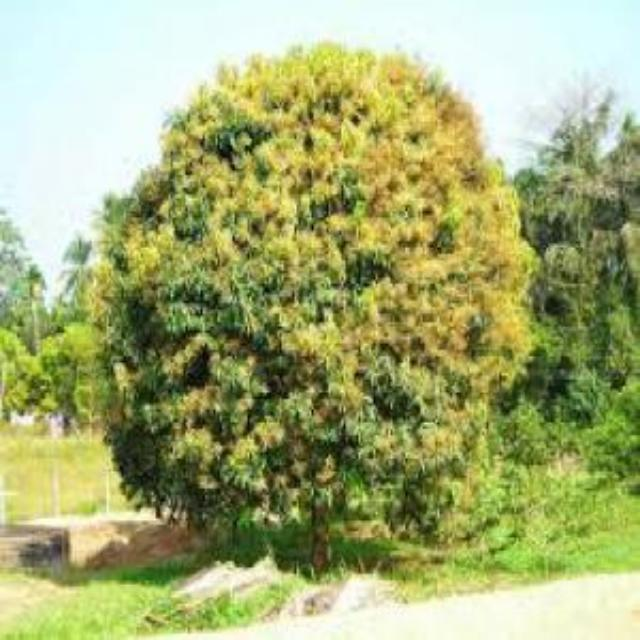tree: (81, 31, 541, 564)
